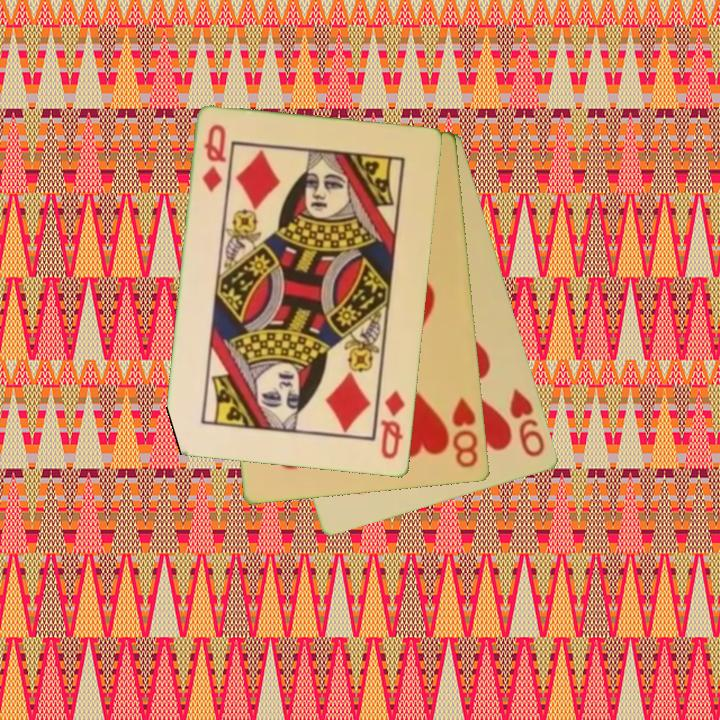8h: (449, 394, 481, 471)
9h: (506, 385, 548, 461)
Qd: (377, 387, 408, 462), (199, 121, 230, 196)
